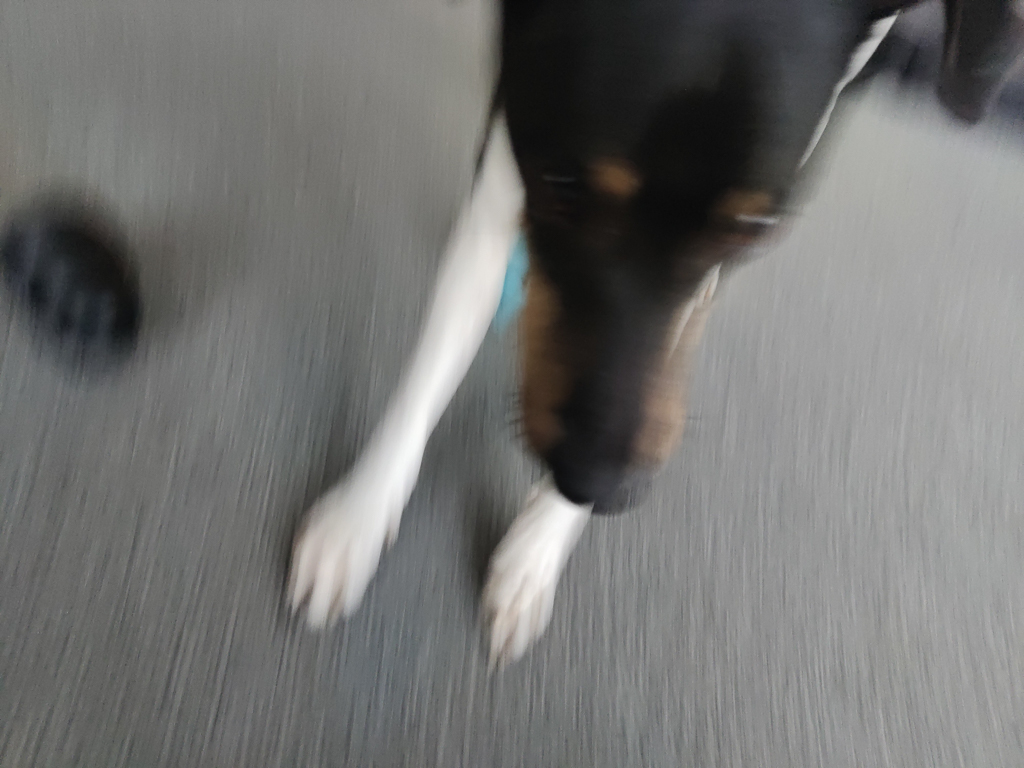Dog: (266, 0, 1024, 681)
